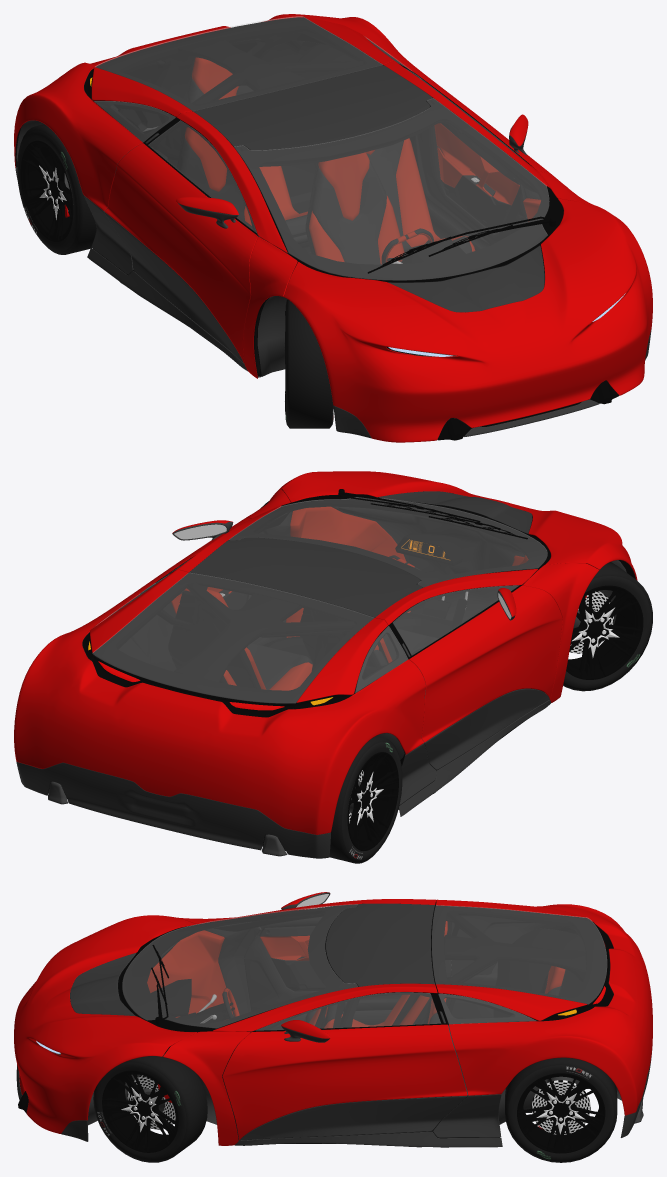
Rendered from car-concept.glb.
3 renders of one model, top to bottom at view 1: azimuth 30°, elevation 25°; view 2: azimuth 150°, elevation 25°; view 3: azimuth 270°, elevation 25°, orthographic. The views are drawn at different scales.
Visible parts, largest first — view 1: BodyHood, BodyWindshield, BodyRearwindow, BodyDoorRColor1, BodyRearPanelsColor1, BodyRoofPanel, BodyWindshieldGasket, InteriorSeatsColor1, InteriorSeatsColor2, BodyPillars, InteriorPillar, InteriorRearHatch (+21 smaller); view 2: BodyRearPanelsColor1, BodyRearwindow, BodyWindshield, BodyPanelsColor2, BodyDoorRColor1, BodyRoofPanel, BodyHood, InteriorRearHatch, BodyPillars, InteriorPillar, BodyWindshieldGasket, InteriorDashMid (+21 smaller); view 3: BodyRearPanelsColor1, BodyWindshield, BodyDoorLColor1, BodyHood, BodyRearwindow, BodyRoofPanel, BodyPillars, BodyWindshieldGasket, BodyDoorLColor2, BodyPanelsColor2, WheelFrontL, InteriorRearHatch (+25 smaller).
Boxes of the visible parts, box(x1,y1,x2,y2) form: BodyHood: box(283, 198, 652, 442); BodyWindshield: box(234, 98, 549, 280); BodyRearwindow: box(95, 16, 382, 110); BodyDoorRColor1: box(104, 143, 257, 362); BodyRearPanelsColor1: box(14, 14, 428, 210); BodyRoofPanel: box(193, 65, 432, 150); BodyWindshieldGasket: box(234, 99, 563, 282); InteriorSeatsColor1: box(185, 57, 475, 264); InteriorSeatsColor2: box(180, 78, 472, 264); BodyPillars: box(176, 61, 598, 378); InteriorPillar: box(158, 37, 434, 168); InteriorRearHatch: box(93, 17, 383, 117); BodyRearPanelsColor1: box(14, 569, 425, 834); BodyRearwindow: box(92, 573, 373, 703); BodyWindshield: box(229, 497, 547, 587); BodyPanelsColor2: box(16, 700, 550, 858); BodyDoorRColor1: box(409, 585, 562, 742); BodyRoofPanel: box(189, 537, 422, 617); BodyHood: box(279, 471, 637, 580); InteriorRearHatch: box(93, 573, 386, 707); BodyPillars: box(175, 489, 599, 702); InteriorPillar: box(174, 574, 417, 682); BodyWindshieldGasket: box(230, 497, 550, 587); InteriorDashMid: box(331, 503, 528, 622); BodyRearPanelsColor1: box(436, 899, 652, 1115); BodyWindshield: box(122, 904, 357, 1028); BodyDoorLColor1: box(222, 1024, 467, 1139); BodyHood: box(14, 915, 196, 1133); BodyRearwindow: box(432, 905, 606, 1003); BodyRoofPanel: box(326, 903, 434, 986); BodyPillars: box(163, 899, 437, 1145); BodyWindshieldGasket: box(118, 905, 357, 1032); BodyDoorLColor2: box(240, 1096, 467, 1140); BodyPanelsColor2: box(16, 1050, 652, 1147); WheelFrontL: box(93, 1054, 207, 1162); InteriorRearHatch: box(431, 905, 606, 1020).
Size of the model in its own units: 2.54 by 1.15 by 4.36.
22 materials, 5 textured.
